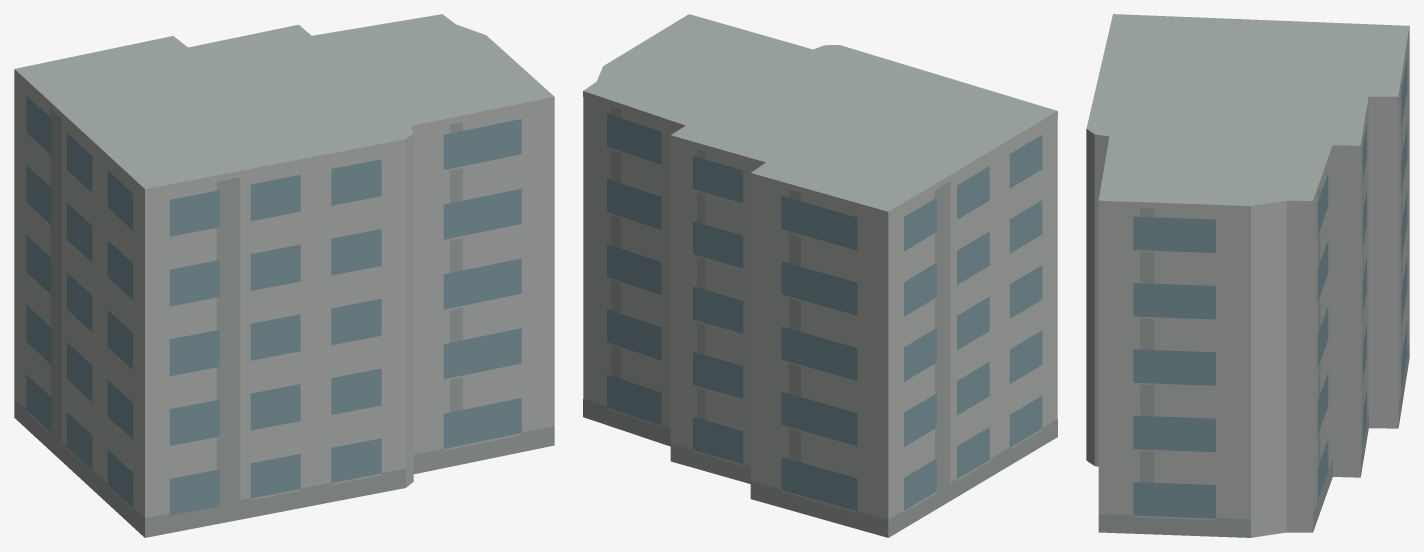
The model's file is survey-upis-32826442.glb.
3 renders of one model, left to right at view 1: azimuth 30°, elevation 25°; view 2: azimuth 150°, elevation 25°; view 3: azimuth 270°, elevation 25°, orthographic. The views are drawn at different scales.
Visible parts, largest first — view 1: survey-upis-32826442.tmp; view 2: survey-upis-32826442.tmp; view 3: survey-upis-32826442.tmp.
Boxes of the visible parts, x1,y1,x2,y2 form: survey-upis-32826442.tmp: (14,14,554,537); survey-upis-32826442.tmp: (583,14,1057,537); survey-upis-32826442.tmp: (1086,14,1409,537).
Size of the model in its own units: 16.71 by 13.45 by 11.88.
